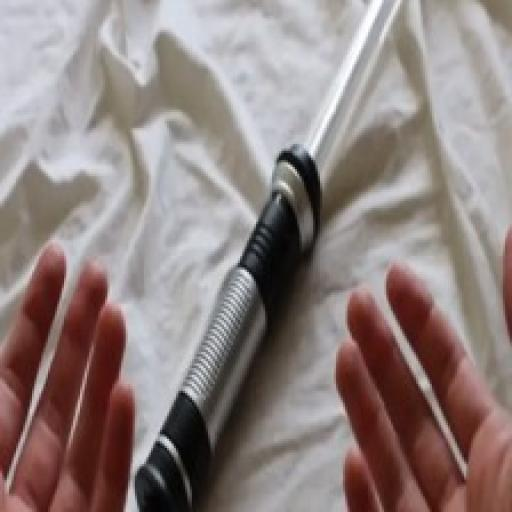lightsaber: (119, 0, 403, 510)
